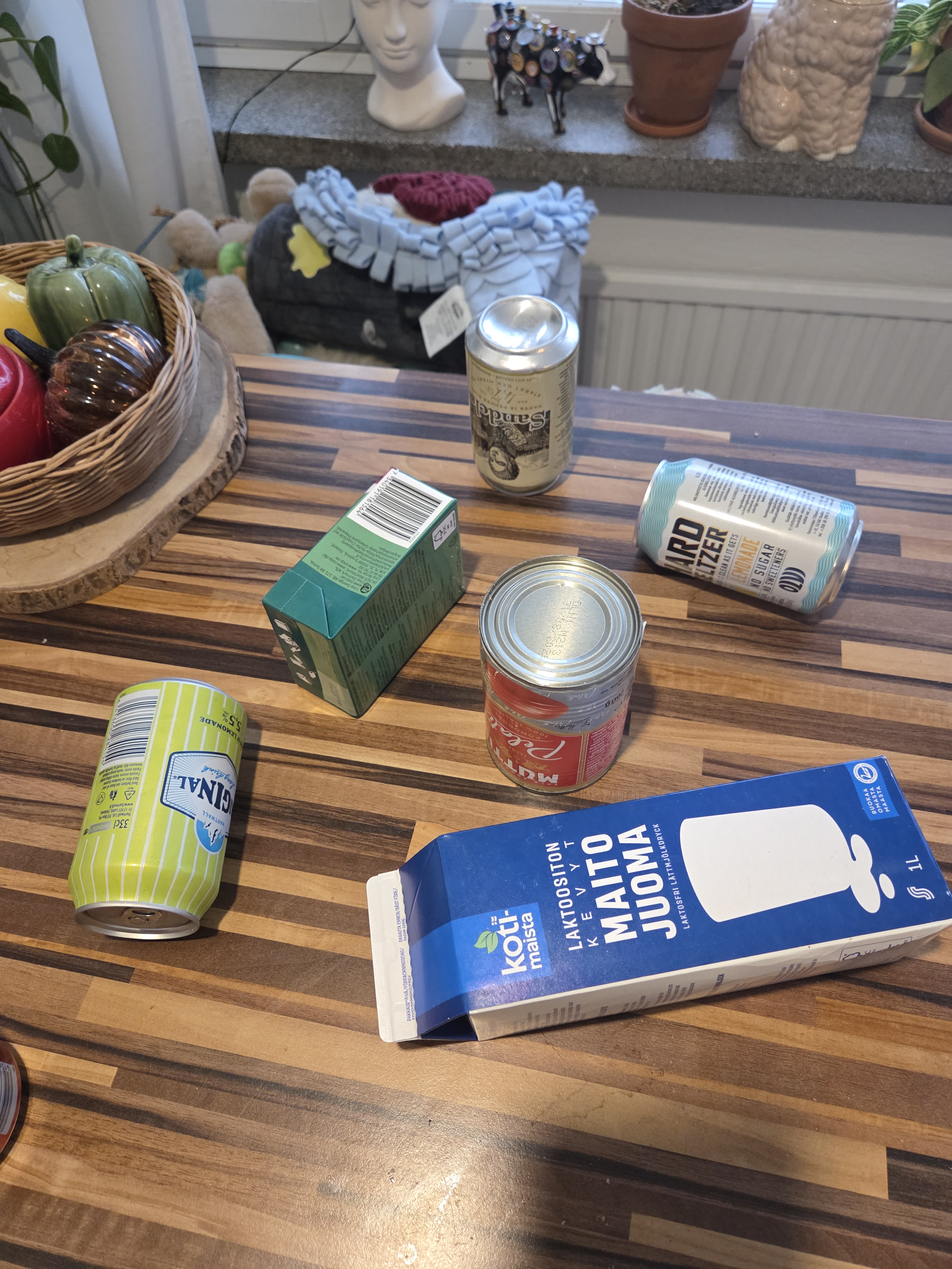Dryckeskartong: (366, 755, 952, 1043)
Konservburk: (478, 555, 647, 793)
Pantburk: (67, 677, 248, 940), (633, 457, 866, 616), (463, 294, 581, 497)
